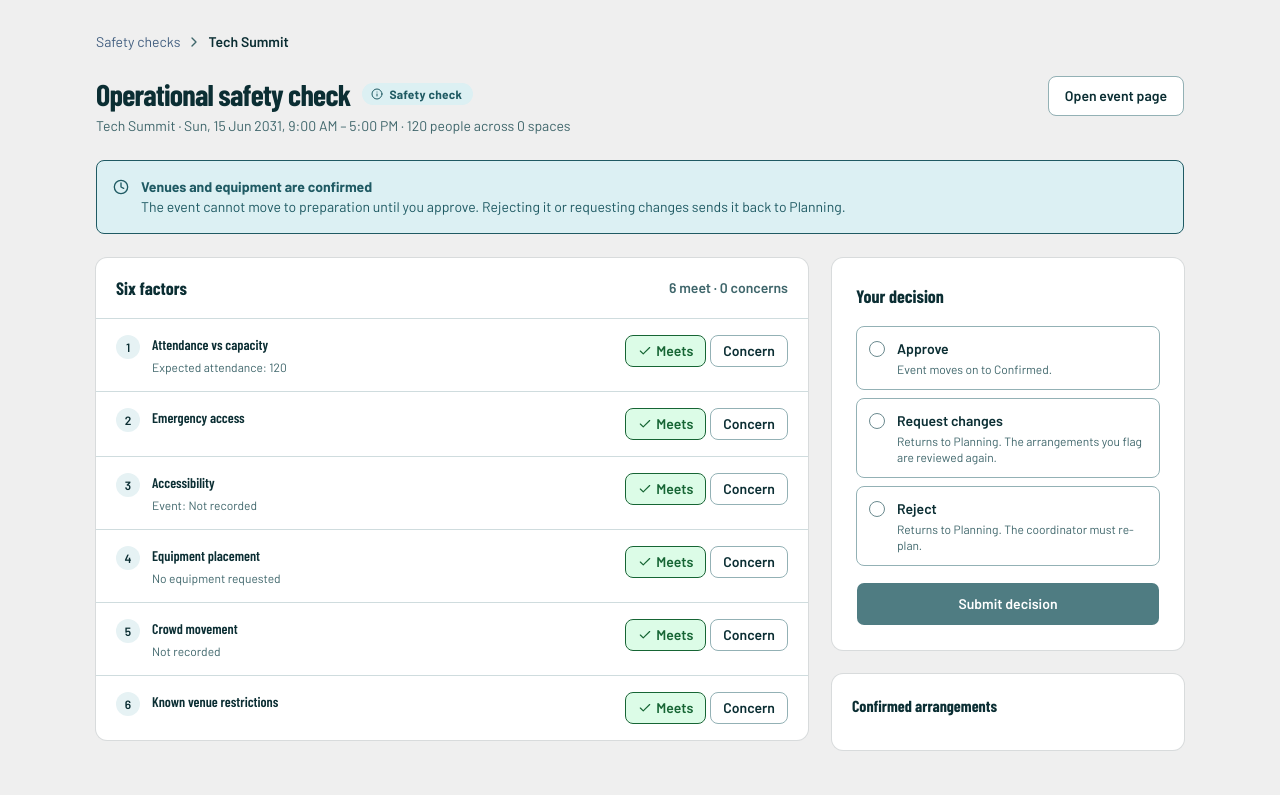
SCRUM-99/AC3 + AC4 review an event › SCRUM-142/AC3 sends a flagged factor's note with Request changes
The width and height of the screenshot is (1280, 795).
Click the button "Concern" in the row of "Crowd movement". click: point(749, 635)
box: [710,619,788,651]
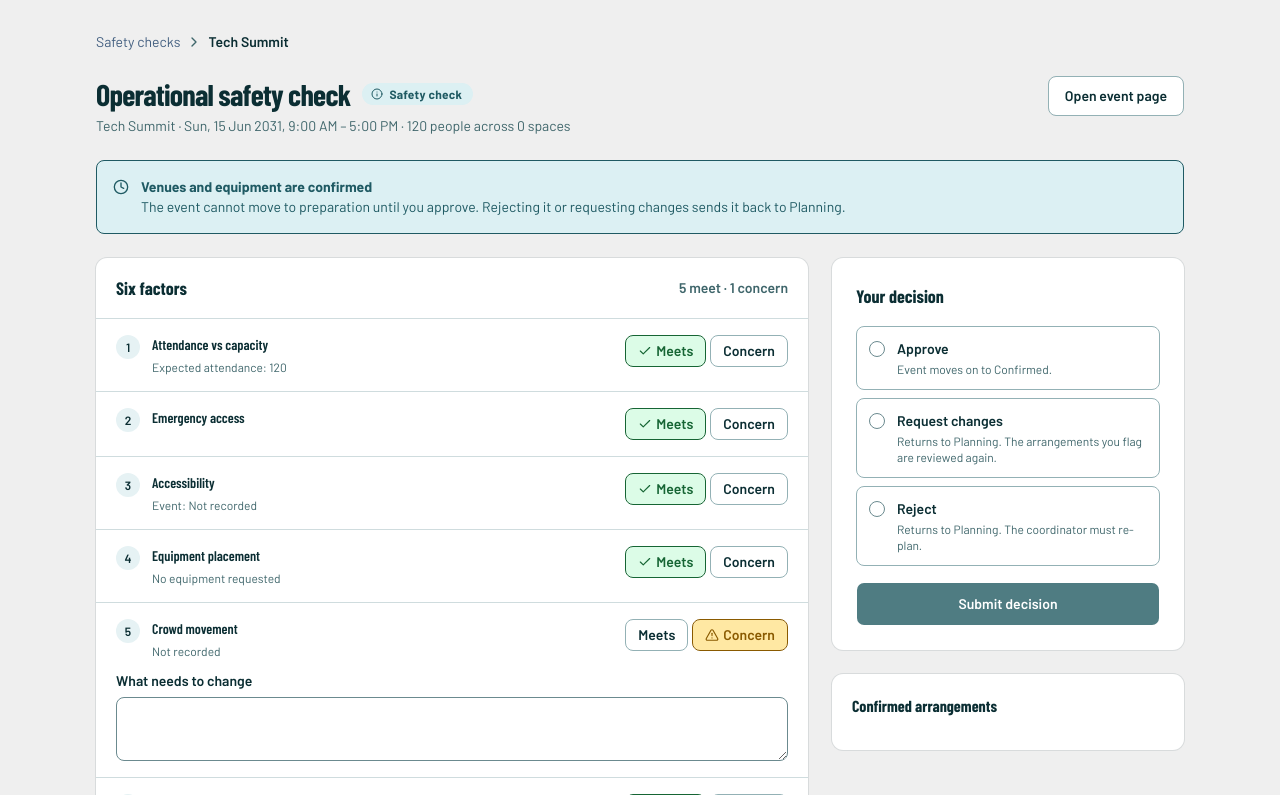
Type "Stagger breakouts" into the text box labelled "What needs to change". click: point(452, 729)
box: [116,697,788,761]
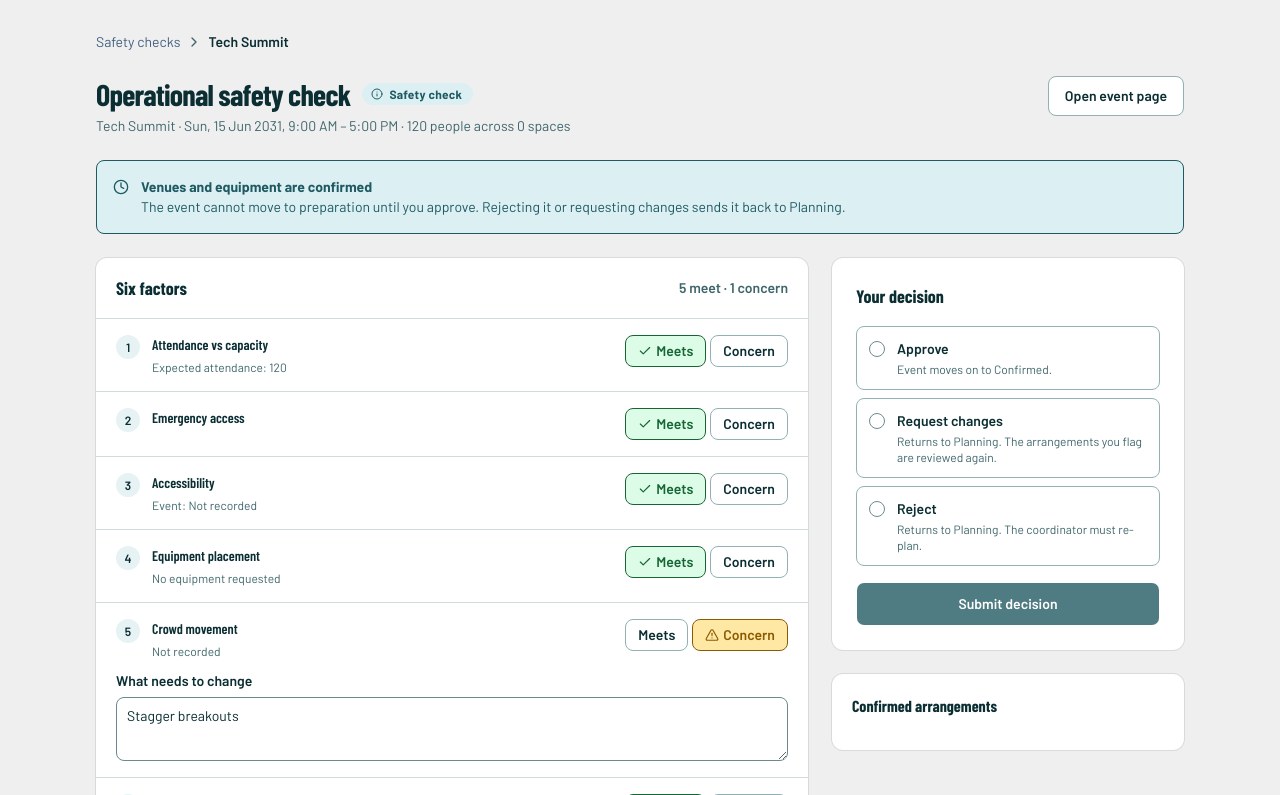
Click the radio button named "Request changes" next to "Request changes". click: point(877, 421)
box: [869,413,885,429]
(page scrolled)
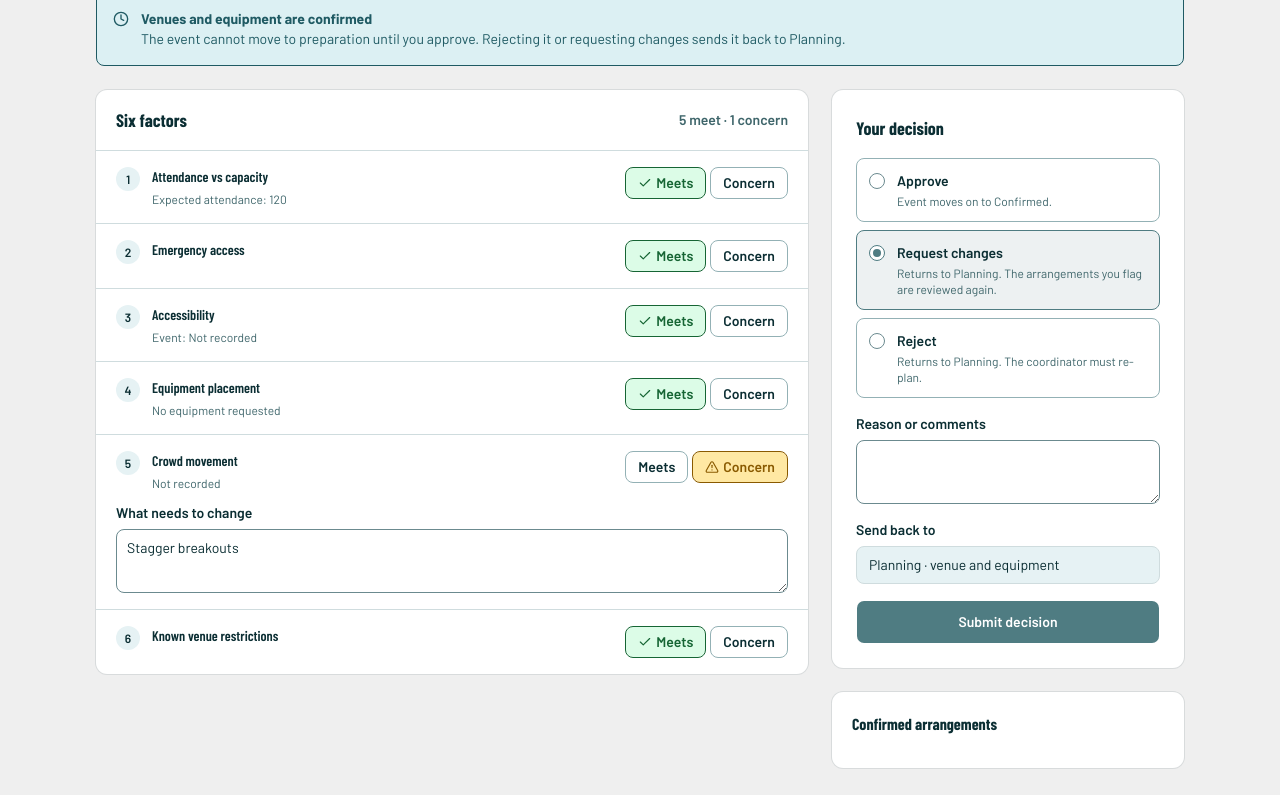
Click the button "Submit decision". click: point(1008, 622)
box: [856,600,1160,644]
(page scrolled)
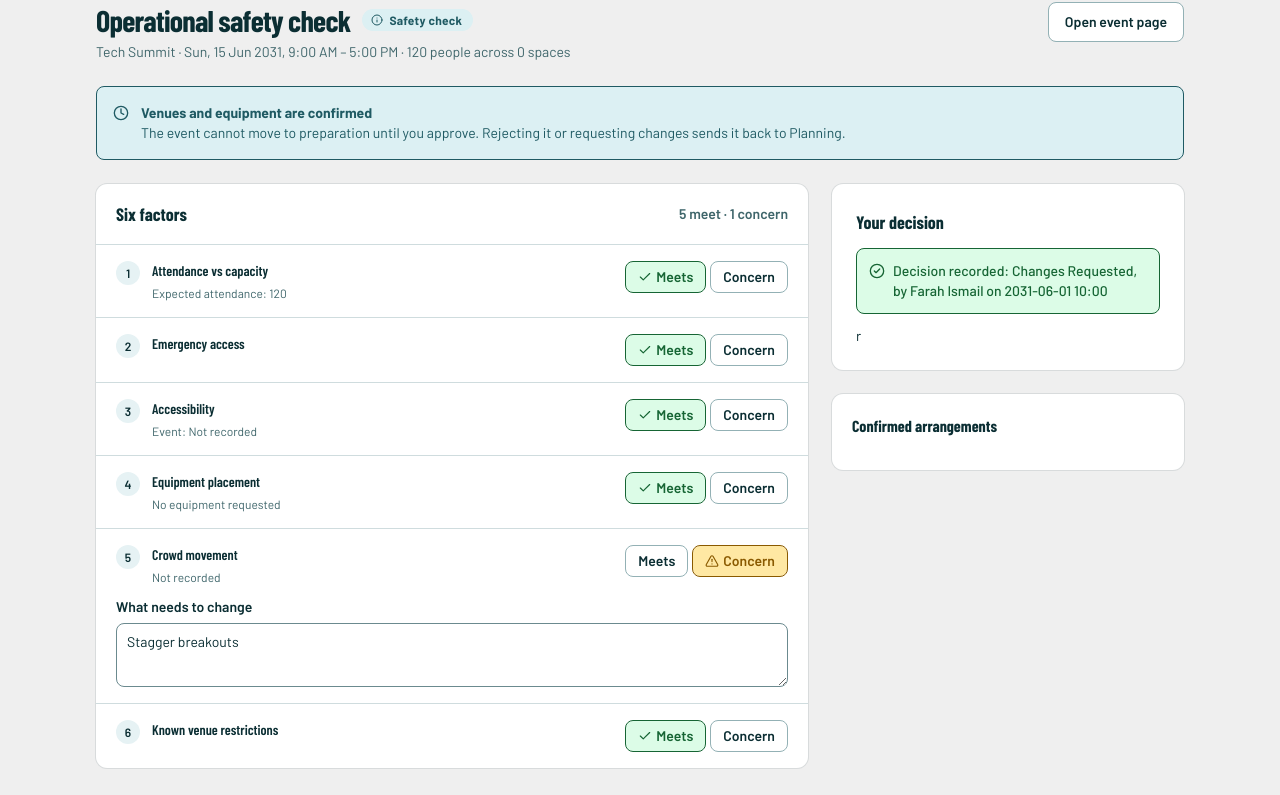
Result: the message "Decision recorded: Changes Requested, by Farah Ismail on 2031-06-01 10:00" is shown at [856,248,1160,314]
